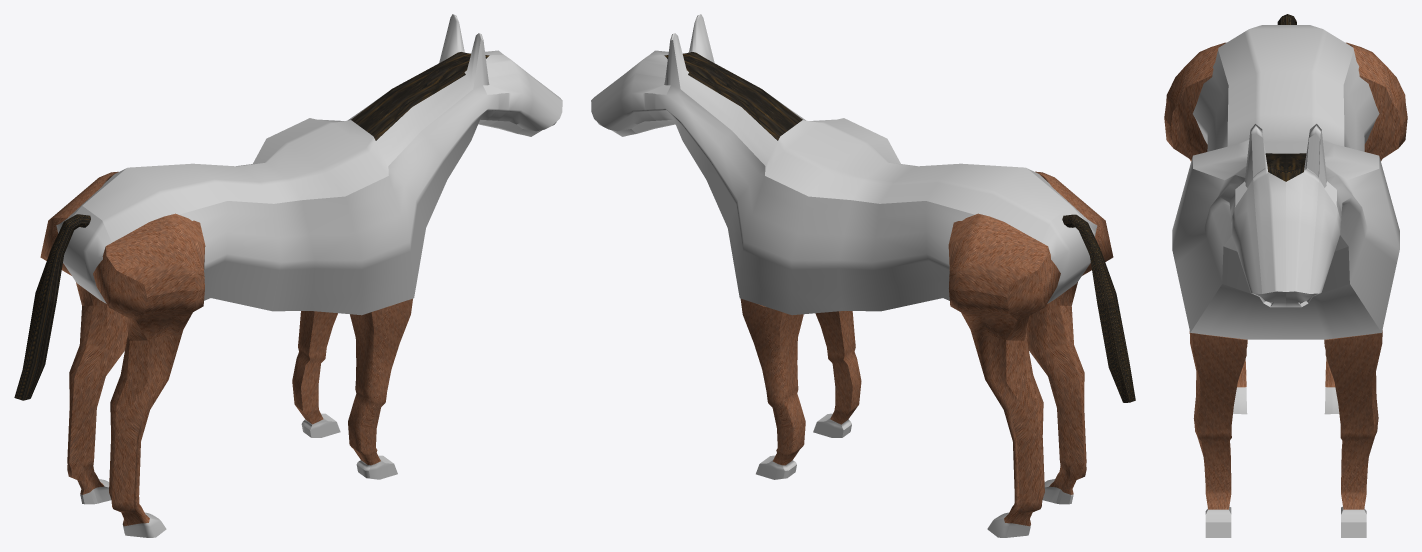
File: HorseWithTextures.fbx
The picture shows the model from 3 angles, left to right: view 1: azimuth 30°, elevation 25°; view 2: azimuth 150°, elevation 25°; view 3: azimuth 270°, elevation 25°; orthographic projection. The views are drawn at different scales.
Visible parts, largest first — view 1: pCube1, pCube3, pCube4, pCube2, pCube5, polySurface1, pCube6; view 2: pCube2, pCube4, pCube3, pCube1, pCube6, pCube5, polySurface1; view 3: pCube2, pCube1, pCube5, pCube6, pCube4, pCube3.
Boxes of the visible parts, <box> form: pCube1: <box>71,33,562,315</box>; pCube3: <box>93,213,205,537</box>; pCube4: <box>40,171,127,504</box>; pCube2: <box>56,14,503,290</box>; pCube5: <box>348,298,412,479</box>; polySurface1: <box>14,214,90,400</box>; pCube6: <box>292,311,340,437</box>; pCube2: <box>591,33,1082,315</box>; pCube4: <box>948,213,1060,537</box>; pCube3: <box>1026,171,1113,504</box>; pCube1: <box>650,14,1097,290</box>; pCube6: <box>740,299,805,479</box>; pCube5: <box>813,311,861,437</box>; polySurface1: <box>1062,214,1135,402</box>; pCube2: <box>1286,25,1399,339</box>; pCube1: <box>1172,25,1286,339</box>; pCube5: <box>1189,331,1246,537</box>; pCube6: <box>1325,330,1382,537</box>; pCube4: <box>1324,42,1407,414</box>; pCube3: <box>1164,42,1247,414</box>.
Size of the model in its own units: 2.89 by 2.08 by 0.9503.
